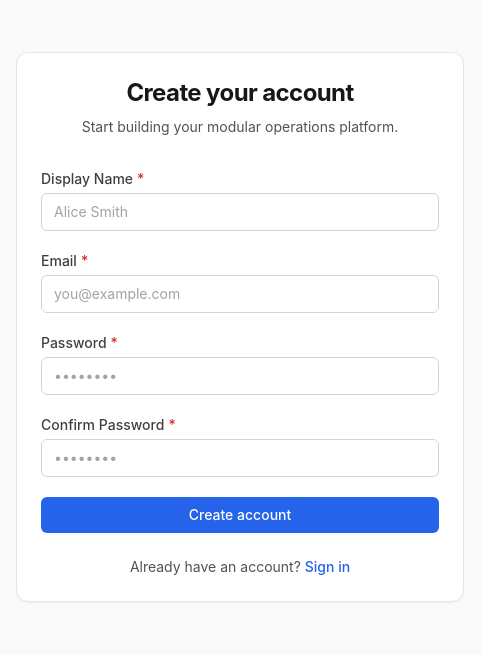
Test: RegisterPage › shows error when passwords do not match
Step 1. Type "password123" into the password field labelled "Password*" → (240, 376), box x1=41 y1=357 x2=439 y2=395
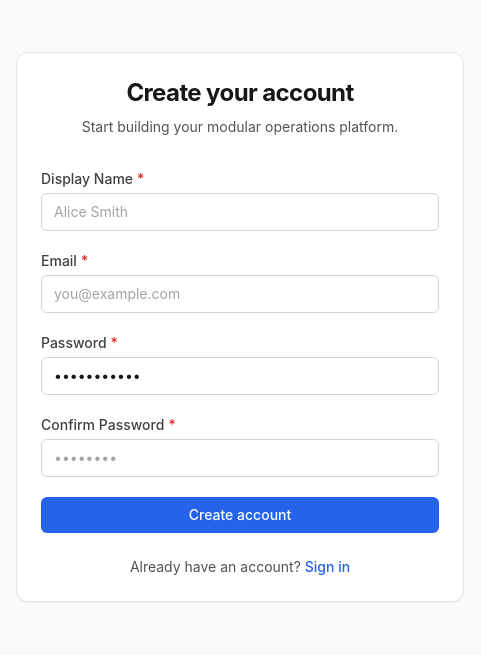
Step 2. Type "different" into the password field labelled "Confirm Password*" → (240, 458), box x1=41 y1=439 x2=439 y2=477
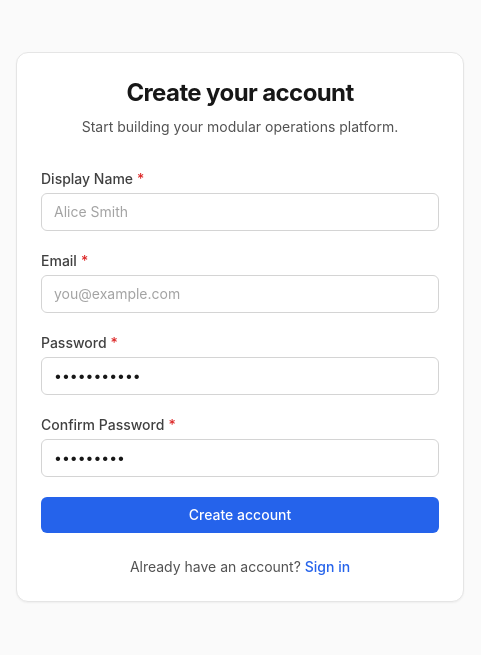
Step 3. Click the button "Create account" → click(240, 515), box x1=41 y1=497 x2=439 y2=533
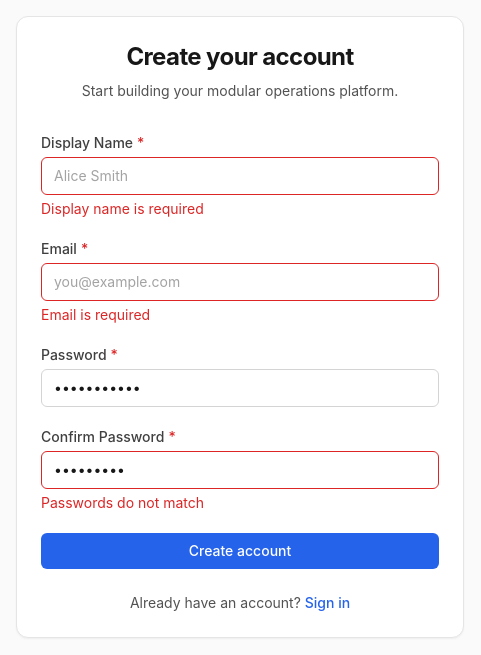
Expected: the text "Passwords do not match" is shown, x1=41 y1=494 x2=204 y2=511
